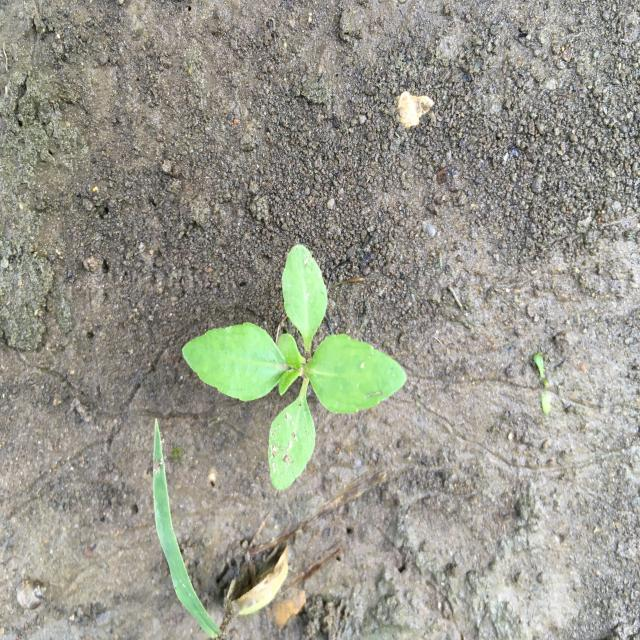Eclipta: (179, 241, 410, 495)
